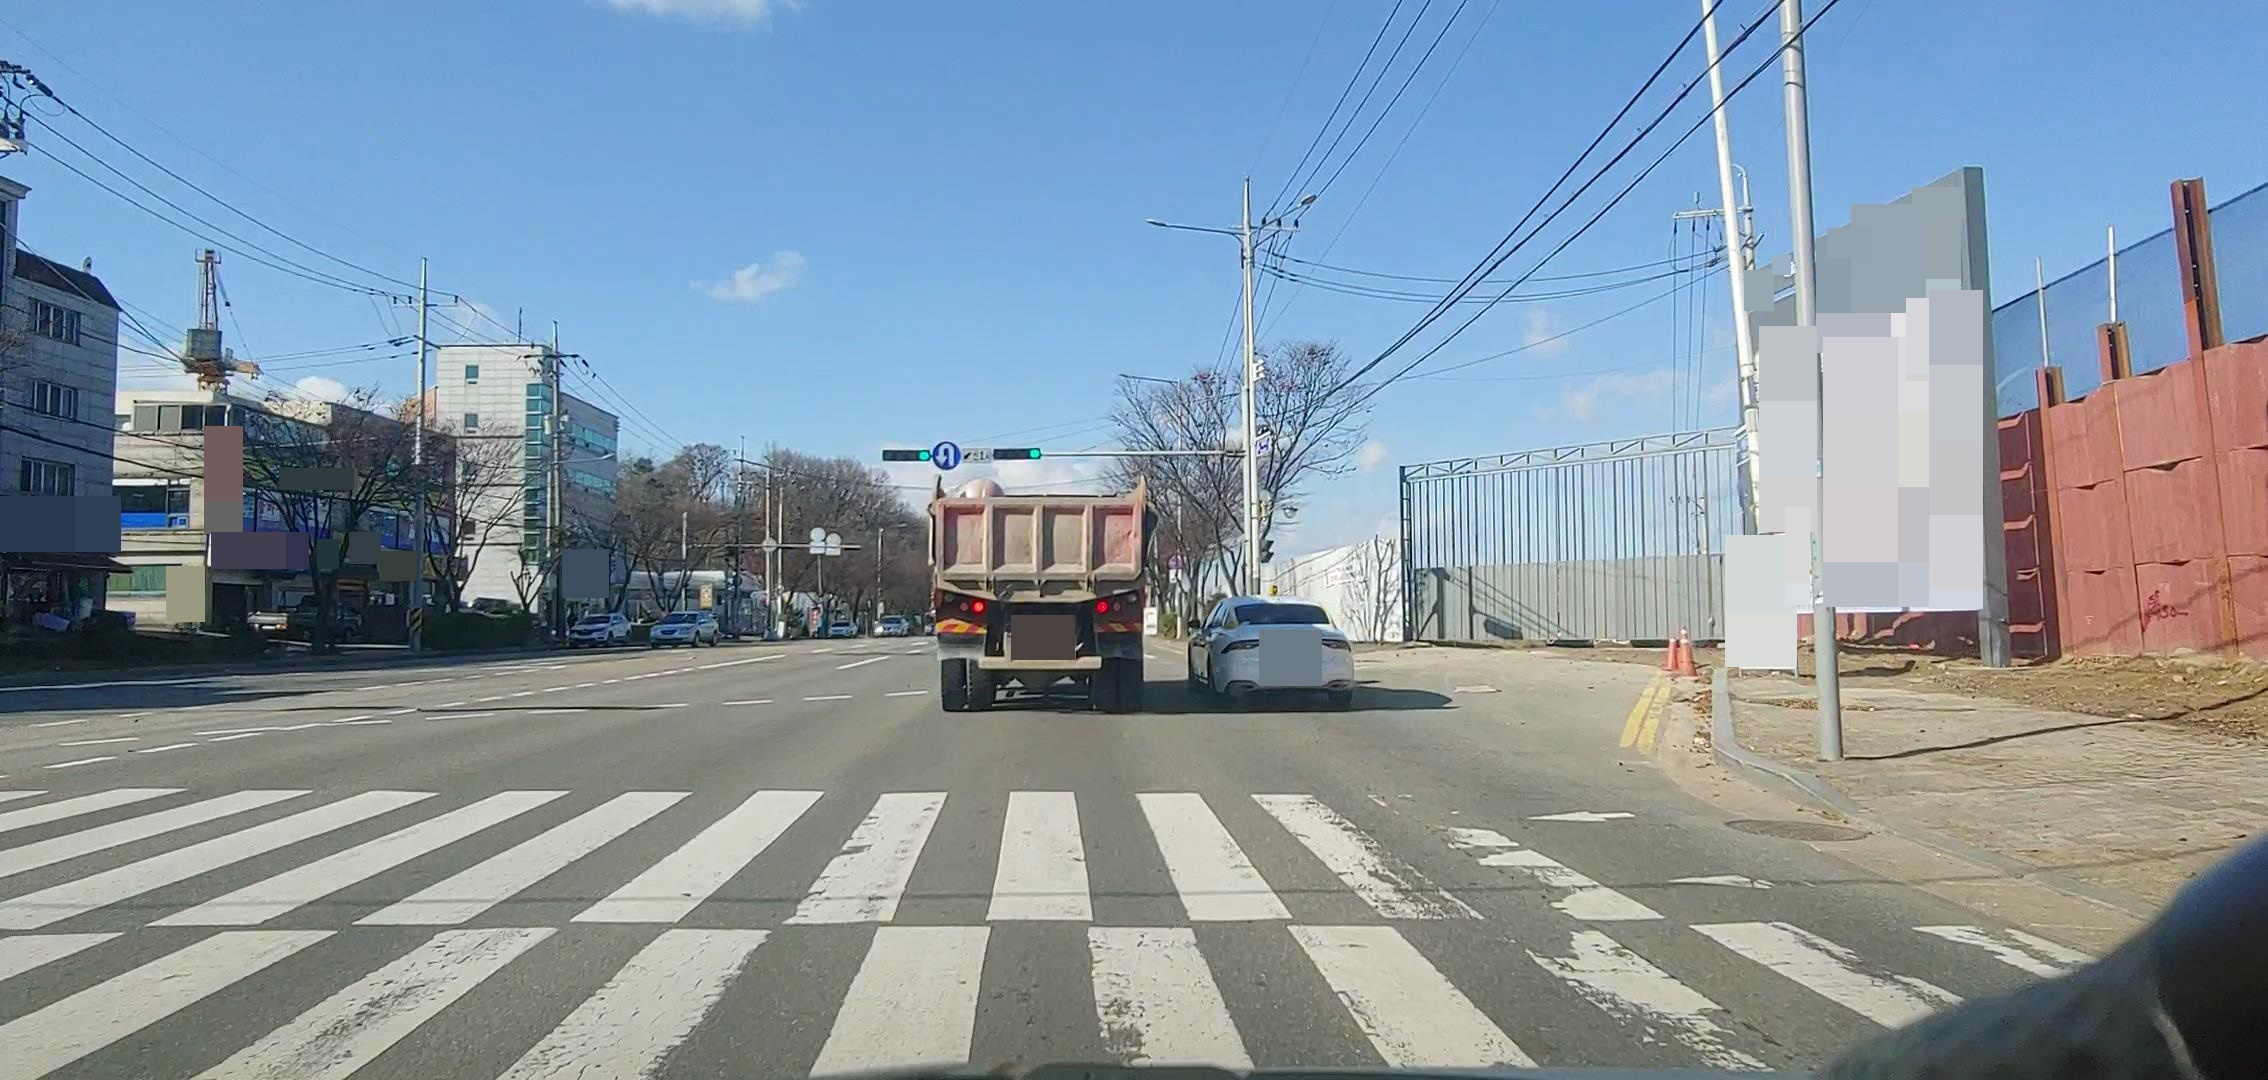불법차량: (925, 468, 1159, 715)
